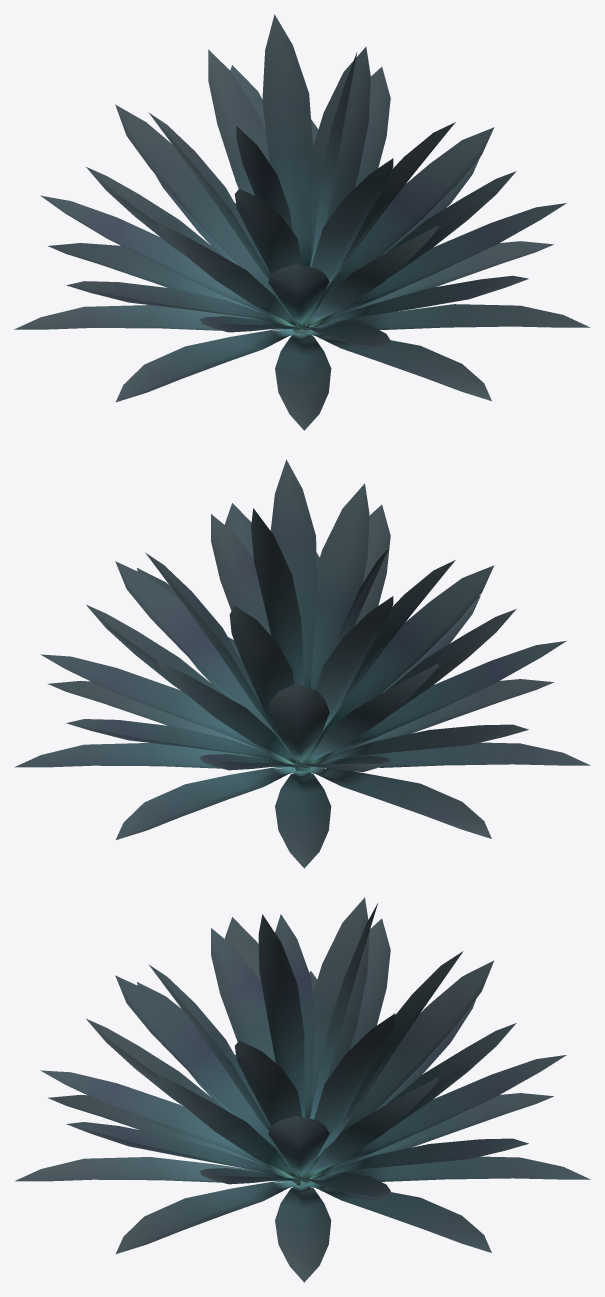
The model's file is plants-cacti-succulents-spiky-rosette_v1.fbx.
The picture shows the model from 3 angles, top to bottom: view 1: azimuth 30°, elevation 25°; view 2: azimuth 150°, elevation 25°; view 3: azimuth 270°, elevation 25°; orthographic projection.
Visible parts, largest first — view 1: Spiky Rosette_v1; view 2: Spiky Rosette_v1; view 3: Spiky Rosette_v1.
Boxes of the visible parts, x1,y1,x2,y2 form: Spiky Rosette_v1: (14,14,590,430); Spiky Rosette_v1: (14,459,590,868); Spiky Rosette_v1: (14,897,590,1282).
Size of the model in its own units: 0.5917 by 0.3699 by 0.6.
